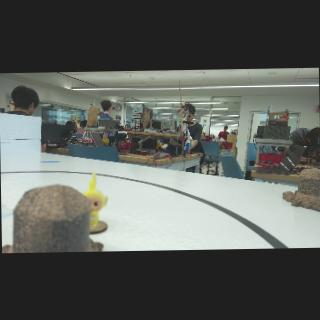teletubby: (83, 173, 107, 227)
